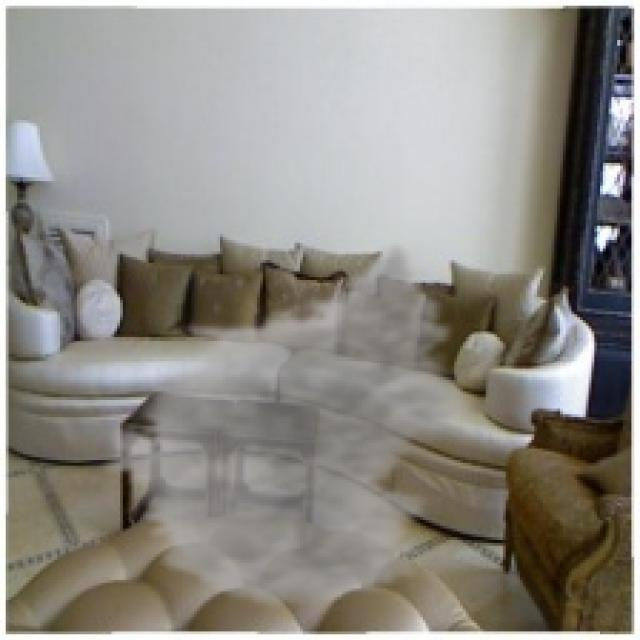smoke: (94, 240, 480, 611)
